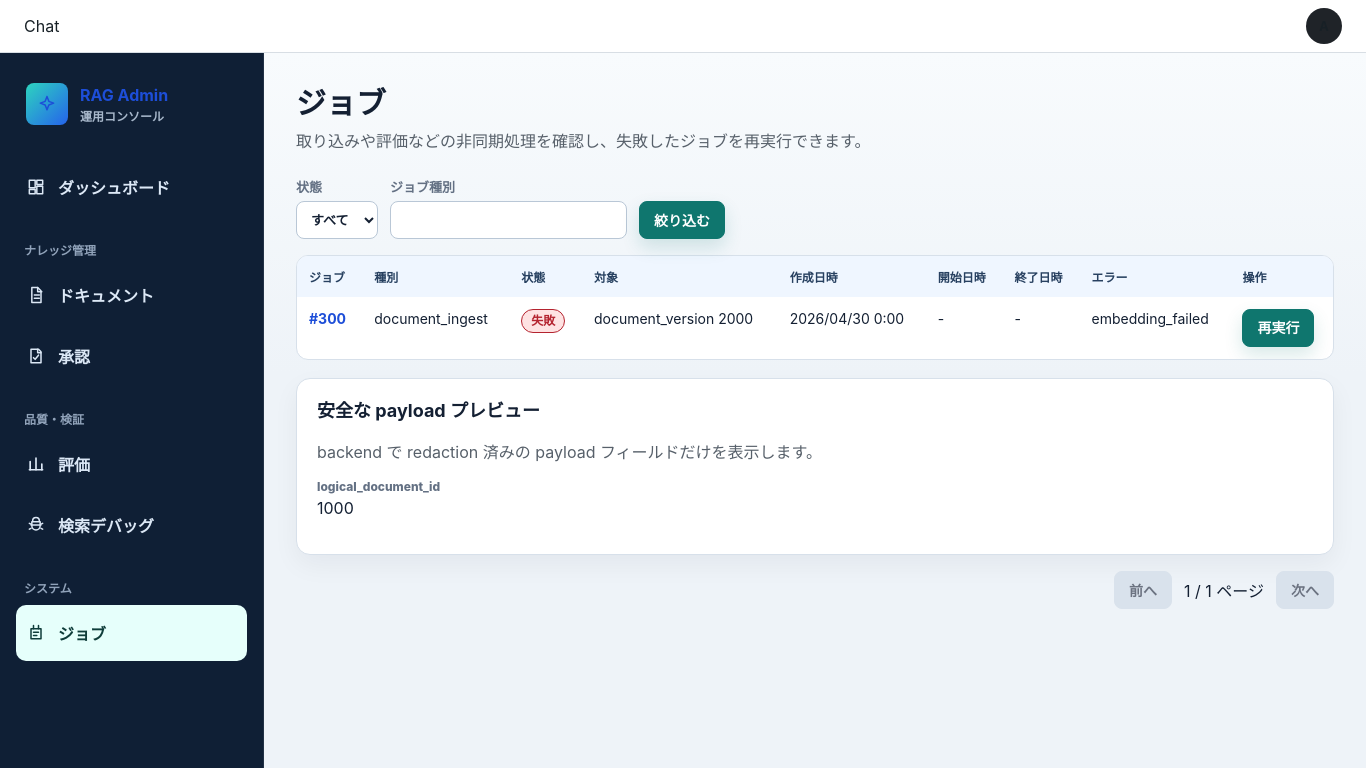
Test case: failed job retry refreshes csrf before mutation
Click the button "再実行".
click(1278, 328)  # box [1242,309,1314,347]
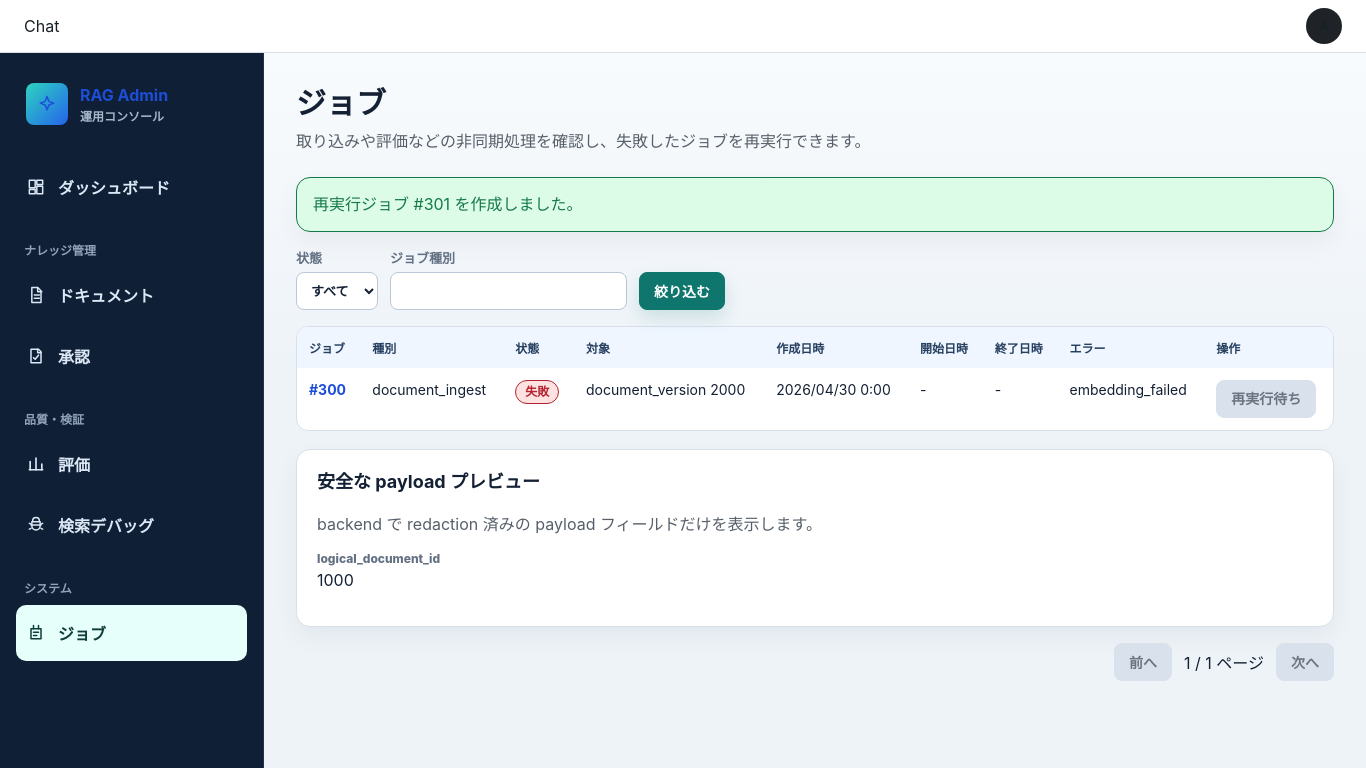
Now the button "再実行待ち" is disabled, box [1216,380,1316,418]
